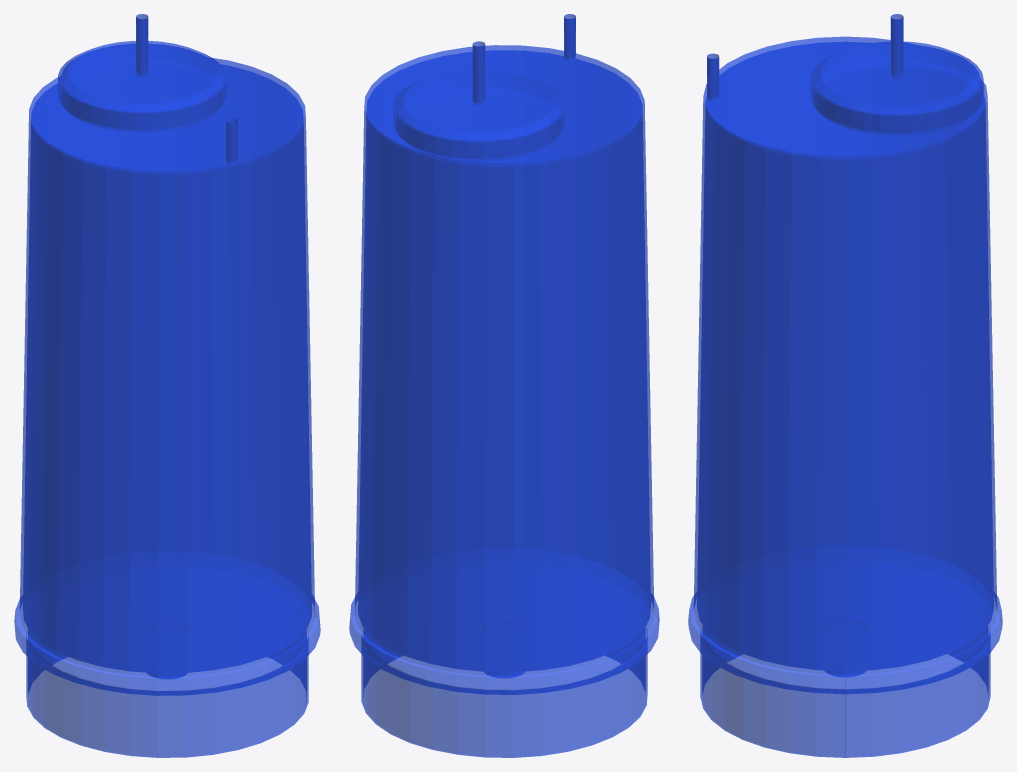
Rendered from canister.obj.
3 views of the same model, side by side, from view 1: azimuth 30°, elevation 25°; view 2: azimuth 150°, elevation 25°; view 3: azimuth 270°, elevation 25° (orthographic). The views are drawn at different scales.
Parts seen in each view (by area): view 1: Canister; view 2: Canister; view 3: Canister.
Boxes of the visible parts, x1,y1,x2,y2 form: Canister: (14, 14, 320, 757); Canister: (349, 14, 659, 757); Canister: (688, 14, 1002, 757).
Size of the model in its own units: 0.0499 by 0.119 by 0.0499.
